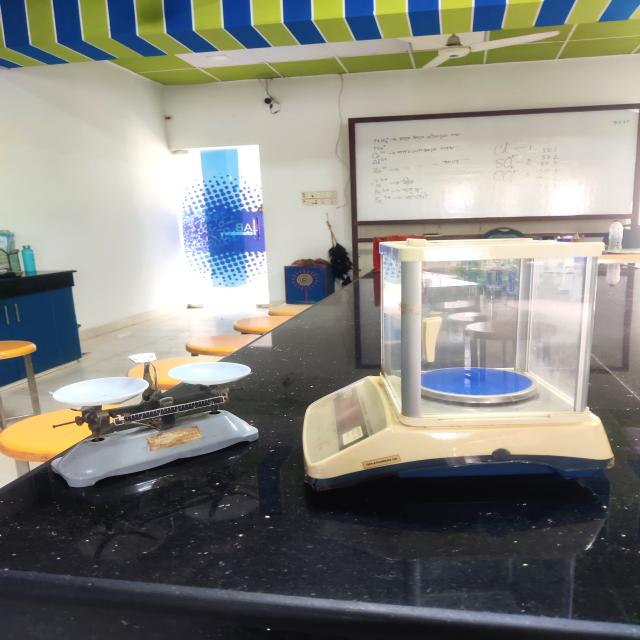Mechanical_Balance_Scale: (32, 344, 265, 506)
Precision_Weight_Scale: (281, 227, 640, 510)
